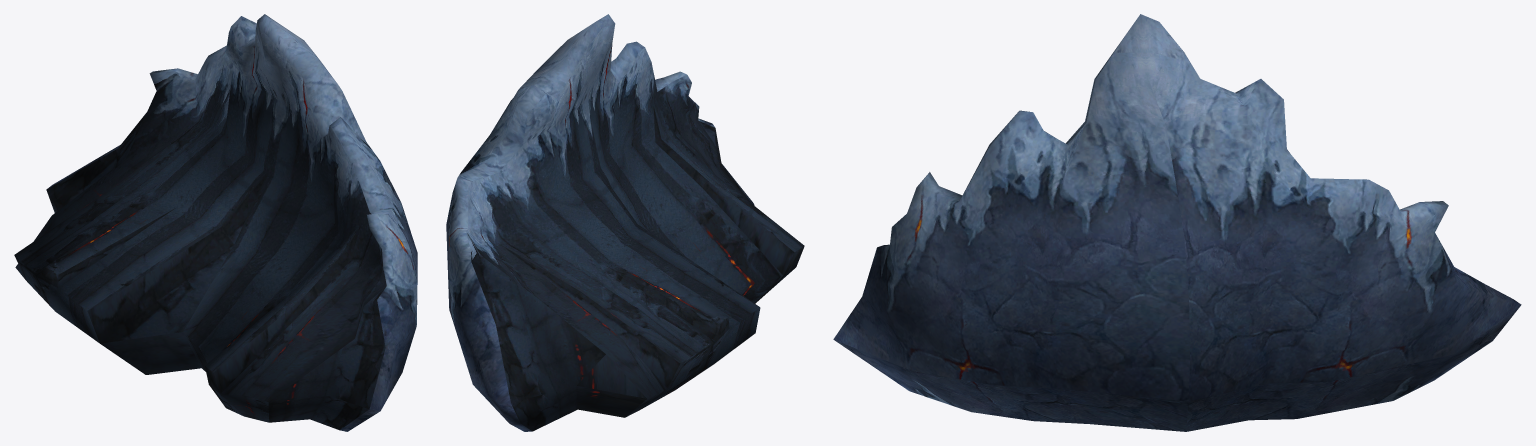
The model's file is Vo_N_WaveLandform04.FBX.
3 views of the same model, side by side, from view 1: azimuth 30°, elevation 25°; view 2: azimuth 150°, elevation 25°; view 3: azimuth 270°, elevation 25° (orthographic). The views are drawn at different scales.
Visible parts, largest first — view 1: Vo_N_WaveLandform04; view 2: Vo_N_WaveLandform04; view 3: Vo_N_WaveLandform04.
Part boxes in pixels (x1=…): Vo_N_WaveLandform04: x1=14, y1=14, x2=417, y2=431; Vo_N_WaveLandform04: x1=446, y1=14, x2=804, y2=431; Vo_N_WaveLandform04: x1=833, y1=14, x2=1521, y2=431.
Size of the model in its own units: 633 by 717 by 1151.
